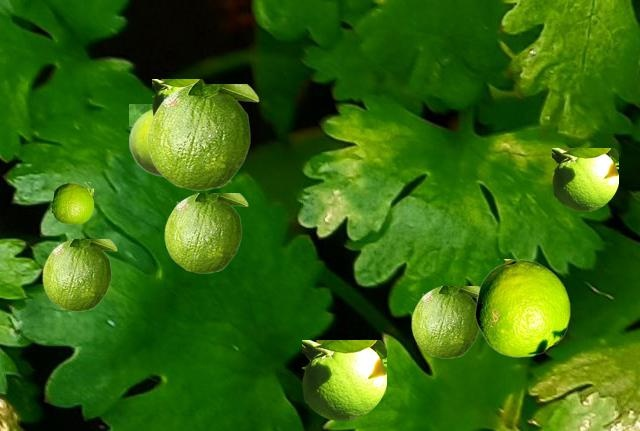dalandan: (147, 84, 258, 189), (475, 259, 569, 356), (302, 340, 385, 419), (164, 193, 247, 272), (42, 239, 116, 310), (411, 286, 479, 357), (552, 148, 617, 210), (129, 104, 162, 177), (152, 79, 204, 115), (52, 182, 92, 223)
